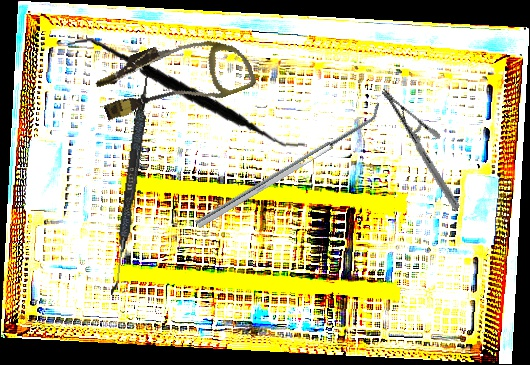Cannula: (90, 18, 258, 137)
Needle Holder: (348, 86, 493, 213)
Spatula Surgical: (67, 20, 306, 168), (190, 101, 387, 229), (110, 62, 153, 297)
